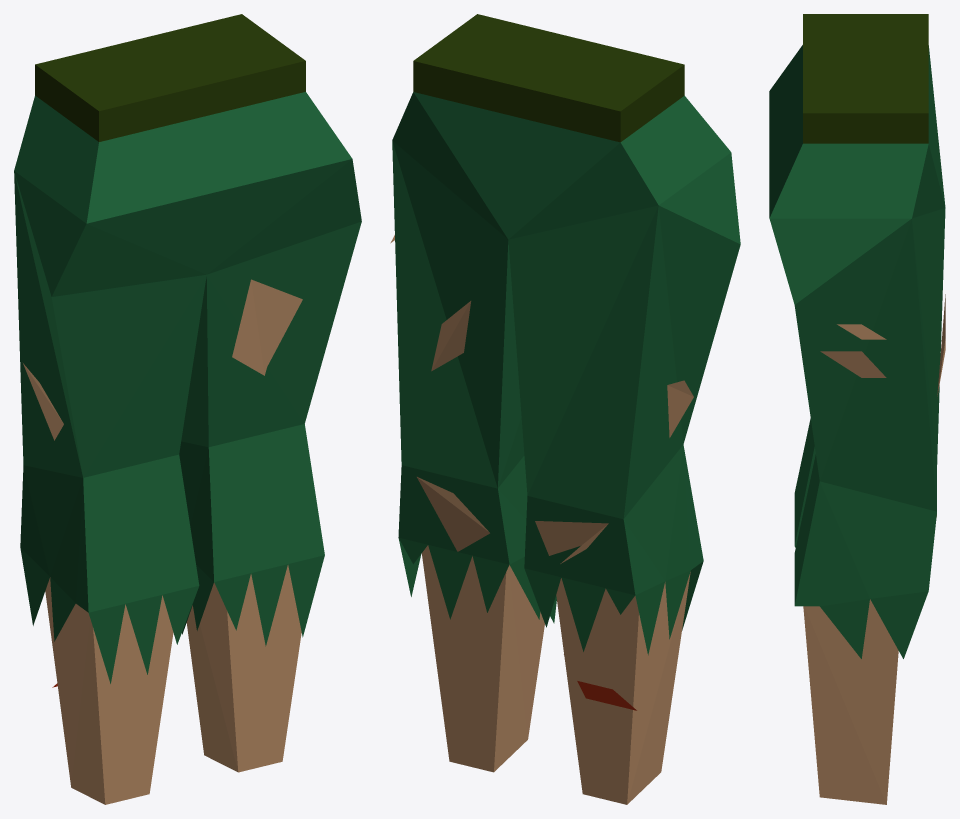
The model's file is player_female_legs_75_0.obj.
3 views of the same model, side by side, from view 1: azimuth 30°, elevation 25°; view 2: azimuth 150°, elevation 25°; view 3: azimuth 270°, elevation 25° (orthographic).
Size of the model in its own units: 0.3281 by 0.7188 by 0.1641.
